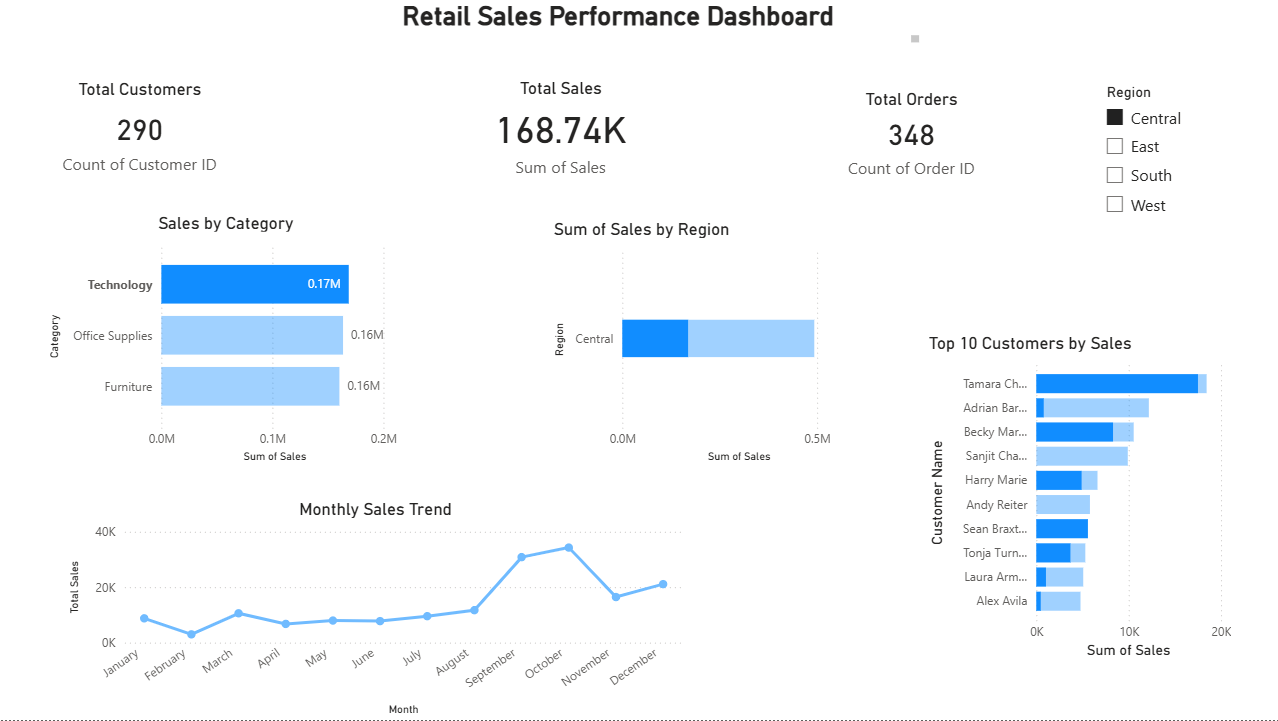

This screenshot's page, from the dashboard's own definition file:
{"tool":"powerbi","page":{"name":"Page 1","canvas":[1280,720],"ordinal":0},"visuals":[{"type":"lineChart","title":"Monthly Sales Trend","fields":{"Category":["superstore_cleaned.Order Date.Variation.Date Hierarchy.Month"],"Y":["superstore_cleaned.Sales"]},"box":[64.1,498.4,623.4,221.9],"z":0},{"type":"clusteredBarChart","title":" Sales by Category","fields":{"Category":["superstore_cleaned.Category"],"Y":["superstore_cleaned.Sales"]},"box":[43.8,212.5,364.1,254.7],"z":1},{"type":"clusteredBarChart","fields":{"Category":["superstore_cleaned.Region"],"Y":["superstore_cleaned.Sales"]},"box":[548.4,218.8,326.6,248.4],"z":2},{"type":"clusteredBarChart","title":"Top 10 Customers by Sales","fields":{"Category":["superstore_cleaned.Customer Name"],"Y":["superstore_cleaned.Sales"]},"box":[923.4,332.8,312.5,331.2],"z":3},{"type":"card","title":"Total Sales","fields":{"Values":["superstore_cleaned.Sales"]},"box":[420.8,77.8,279.2,101.4],"z":4},{"type":"card","title":"Total Customers","fields":{"Values":["superstore_cleaned.Customer ID"]},"box":[0,78.1,279.7,101.6],"z":5},{"type":"card","title":"Total Orders","fields":{"Values":["superstore_cleaned.Order ID"]},"box":[784.4,89.1,253.1,90.6],"z":6},{"type":"textbox","title":"Retail Sales Performance Dashboard","box":[397.2,0,526.4,47.2],"z":8},{"type":"slicer","fields":{"Values":["superstore_cleaned.Region"]},"box":[1093.8,78.1,157.8,203.1],"z":9}]}

Visuals, with their boxes in screenshot pixels (x1, y1, x2, y2), scaled from the page's 1280x720 canvas onto the 1278x721 screenshot:
"Monthly Sales Trend" lineChart: bbox=(64, 499, 686, 720)
" Sales by Category" clusteredBarChart: bbox=(44, 213, 407, 468)
clusteredBarChart - superstore_cleaned.Region x superstore_cleaned.Sales: bbox=(548, 219, 874, 468)
"Top 10 Customers by Sales" clusteredBarChart: bbox=(922, 333, 1234, 665)
"Total Sales" card: bbox=(420, 78, 699, 179)
"Total Customers" card: bbox=(0, 78, 279, 180)
"Total Orders" card: bbox=(783, 89, 1036, 180)
"Retail Sales Performance Dashboard" textbox: bbox=(397, 0, 922, 47)
slicer - superstore_cleaned.Region: bbox=(1092, 78, 1250, 282)
